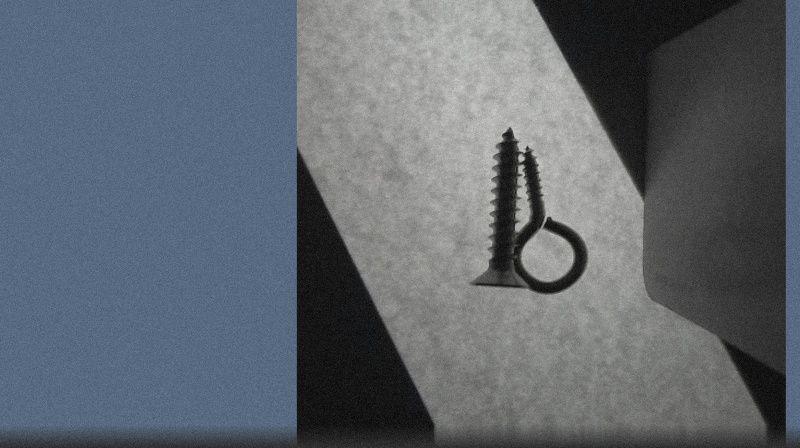O001: (509, 144, 587, 293)
S001: (468, 125, 528, 291)
